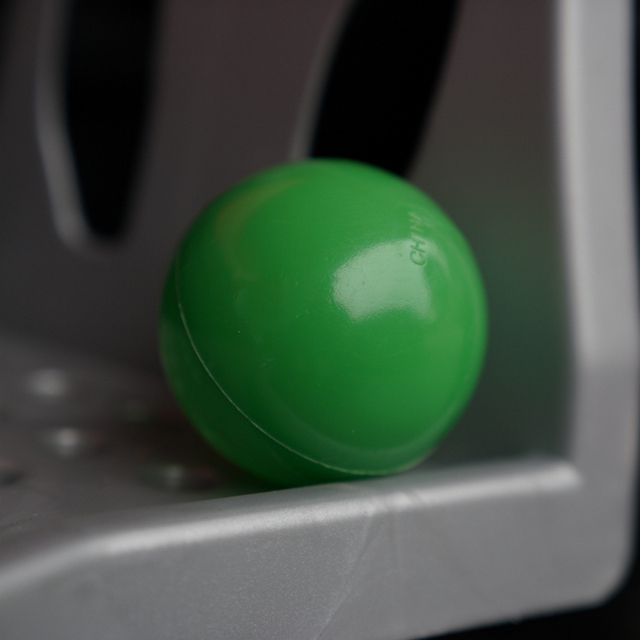Ball: (157, 160, 488, 483)
